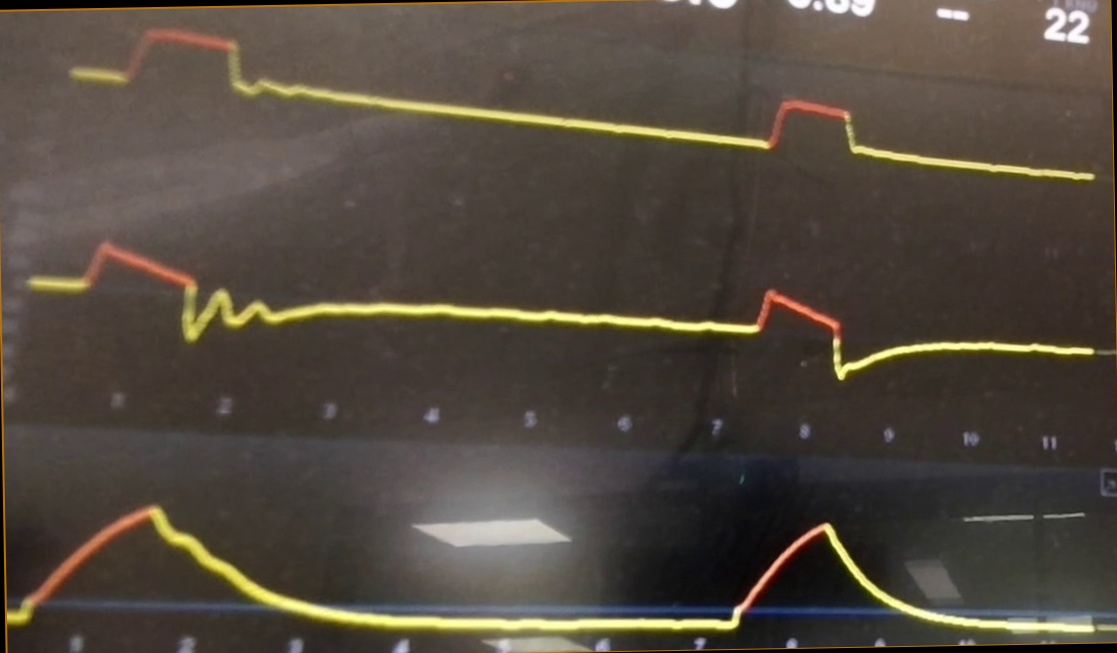Premature_cycling Flow: (32, 223, 1092, 388)
Premature_cycling Volume: (10, 477, 1098, 639)
